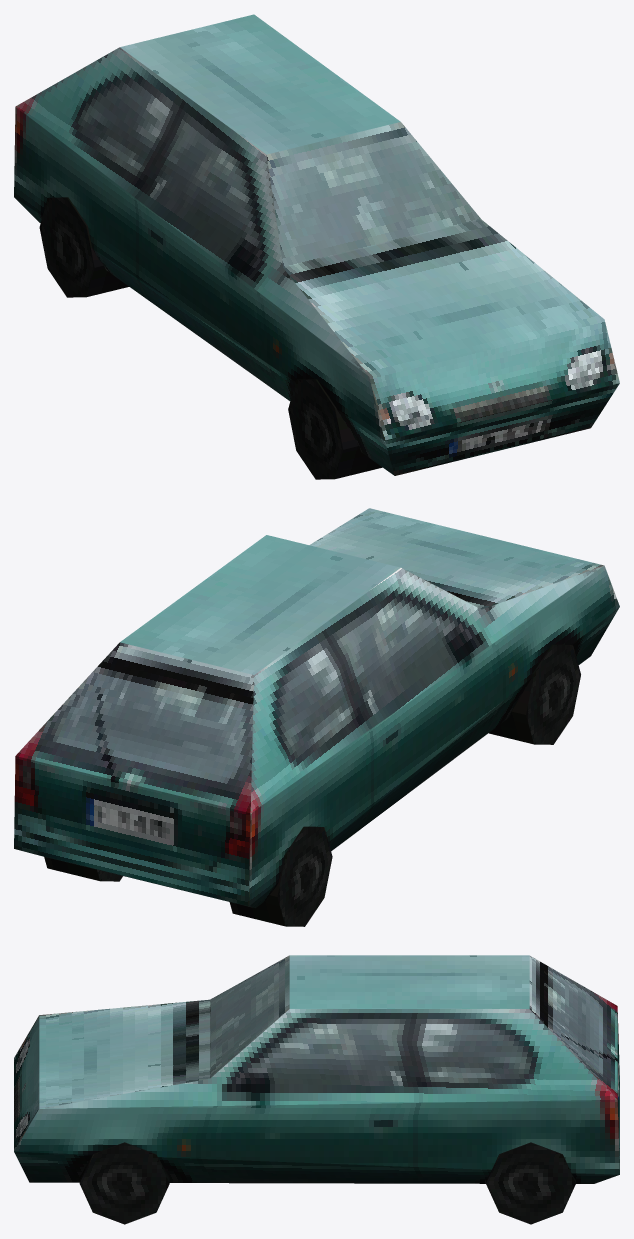
Rendered from toyota_corolla_ps1.glb.
3 renders of one model, top to bottom at view 1: azimuth 30°, elevation 25°; view 2: azimuth 150°, elevation 25°; view 3: azimuth 270°, elevation 25°, orthographic. The views are drawn at different scales.
Parts seen in each view (by area): view 1: Cylinder; view 2: Cylinder; view 3: Cylinder.
Boxes of the visible parts, x1,y1,x2,y2 form: Cylinder: (14, 14, 619, 479); Cylinder: (14, 508, 619, 926); Cylinder: (14, 955, 619, 1224).
Bounding box in the file's own units: 4.28 × 4.1 × 11.55.
1 material, 1 textured.
